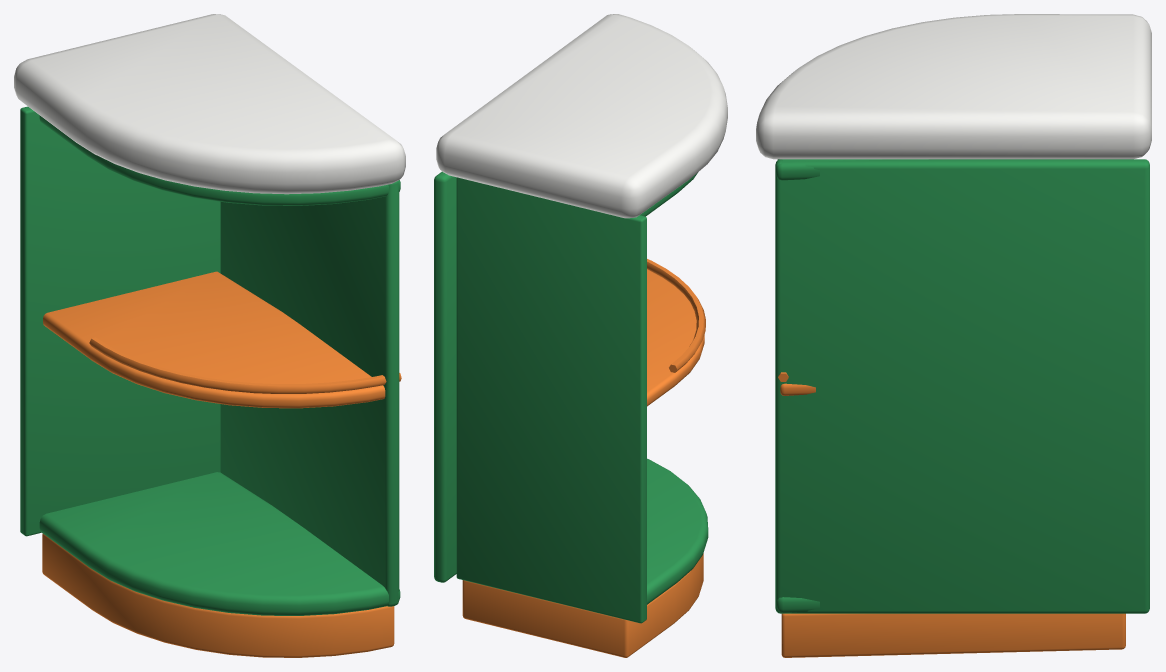
The model's file is armario_cozinha_ponta_curva_verde.glb.
The picture shows the model from 3 angles, left to right: view 1: azimuth 30°, elevation 25°; view 2: azimuth 150°, elevation 25°; view 3: azimuth 270°, elevation 25°; orthographic projection. The views are drawn at different scales.
Visible parts, largest first — view 1: armario_cozinha_ponta_curva_verde; view 2: armario_cozinha_ponta_curva_verde; view 3: armario_cozinha_ponta_curva_verde.
Part boxes in pixels (x1,y1,x2,y2): armario_cozinha_ponta_curva_verde: (14, 14, 405, 657); armario_cozinha_ponta_curva_verde: (434, 14, 727, 657); armario_cozinha_ponta_curva_verde: (756, 14, 1151, 657).
Bounding box in the file's own units: 0.4009 × 0.9 × 0.5962.
Materials: 1 (1 with a texture image).
